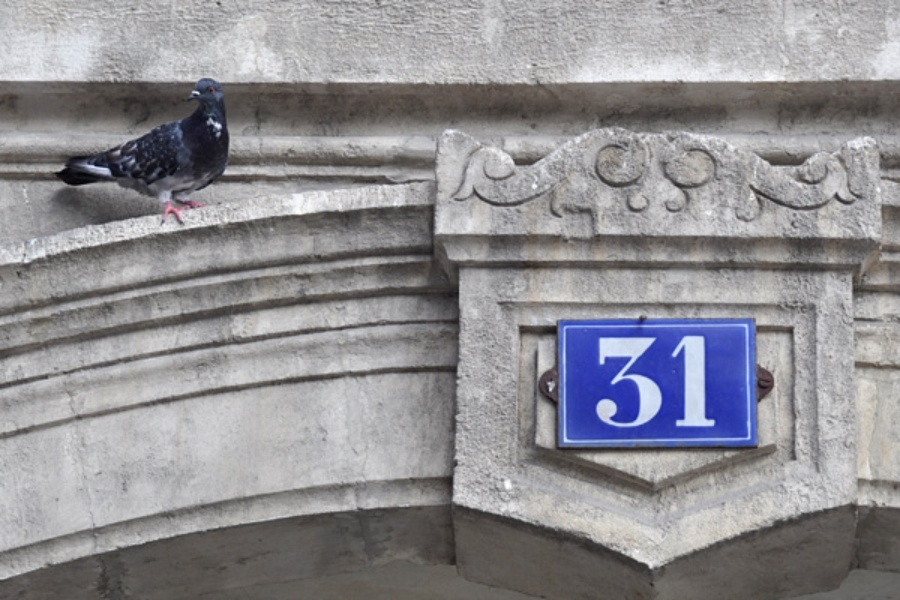text: (609, 335, 624, 428), (625, 335, 640, 428), (641, 335, 656, 428), (657, 335, 672, 428), (673, 335, 688, 428), (689, 335, 704, 428), (595, 335, 608, 428), (705, 335, 716, 428)
